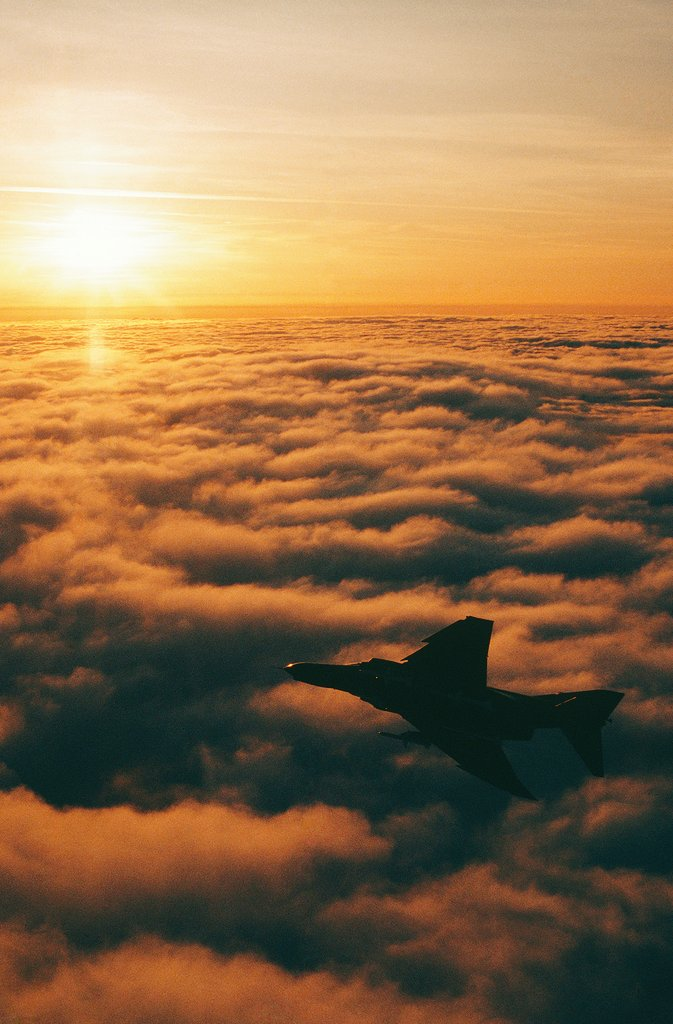F4: (269, 615, 625, 803)
